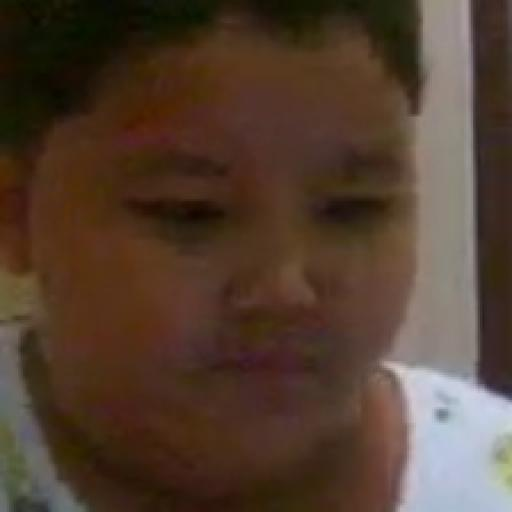Autism: (9, 0, 448, 498)
